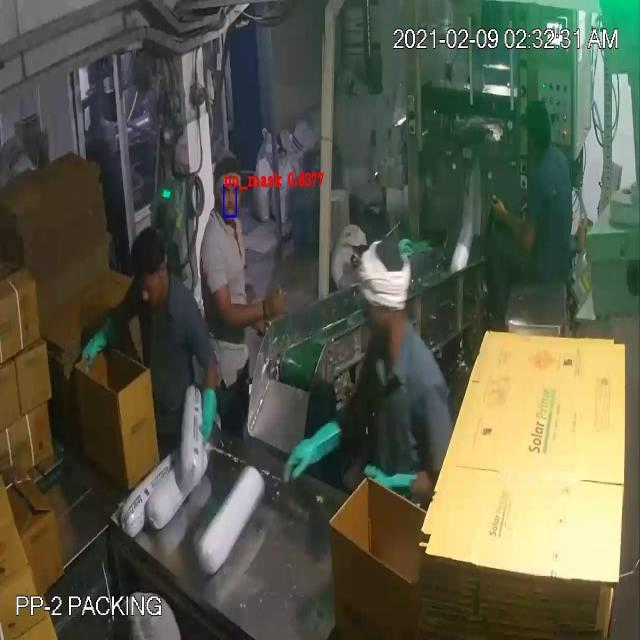Gloves: (36, 59, 510, 489)
